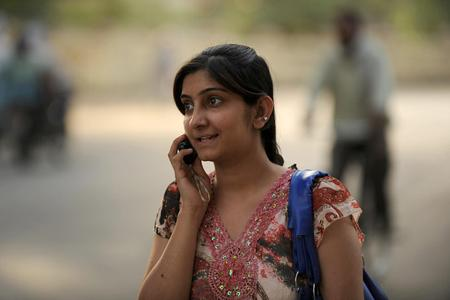person: (137, 42, 367, 300)
